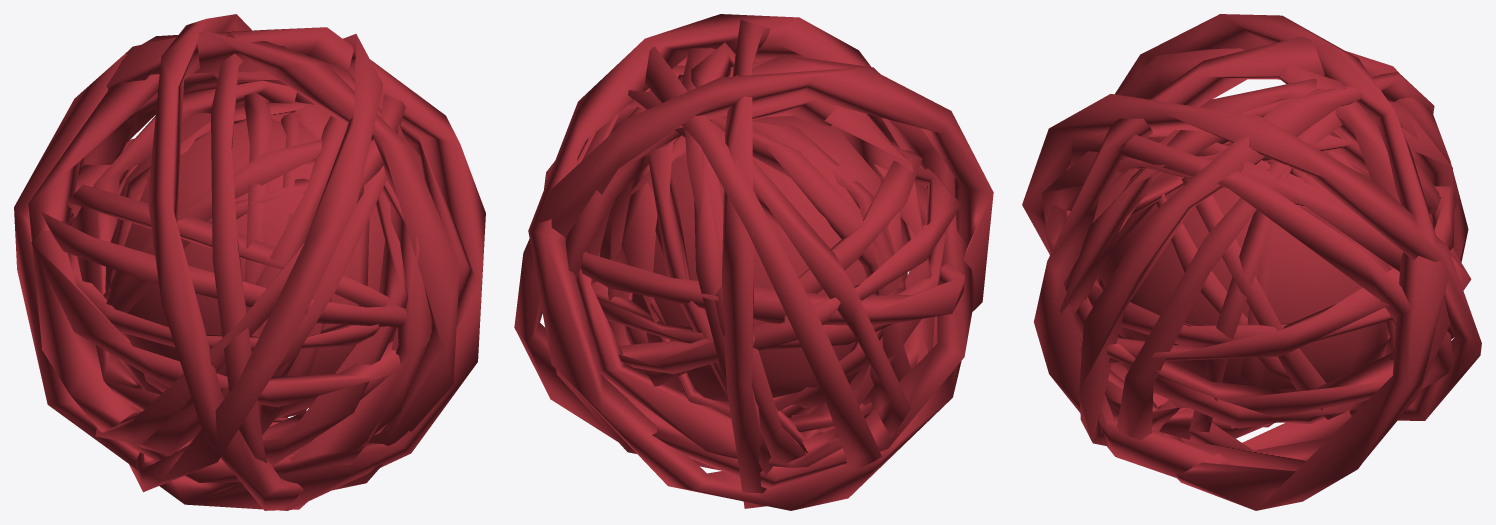
Rendered from Klembek_basicAttack 1.fbx.
3 views of the same model, side by side, from view 1: azimuth 30°, elevation 25°; view 2: azimuth 150°, elevation 25°; view 3: azimuth 270°, elevation 25° (orthographic). The views are drawn at different scales.
Visible parts, largest first — view 1: Cube; view 2: Cube; view 3: Cube.
Part boxes in pixels (x1=…): Cube: x1=14, y1=14, x2=485, y2=510; Cube: x1=514, y1=14, x2=993, y2=510; Cube: x1=1022, y1=14, x2=1481, y2=510.
Size of the model in its own units: 205 by 233 by 225.
